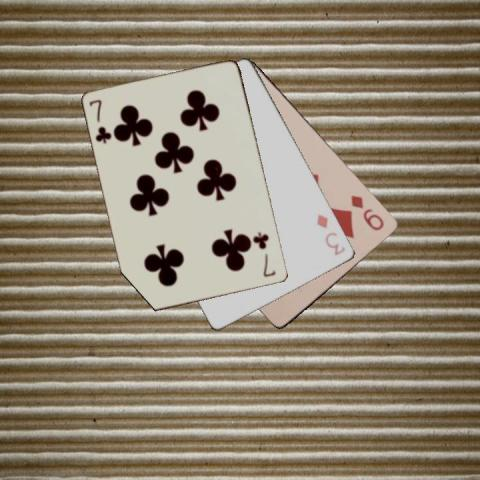3d: (314, 211, 347, 257)
7c: (252, 229, 277, 279), (87, 97, 113, 145)
9d: (348, 192, 386, 232)
